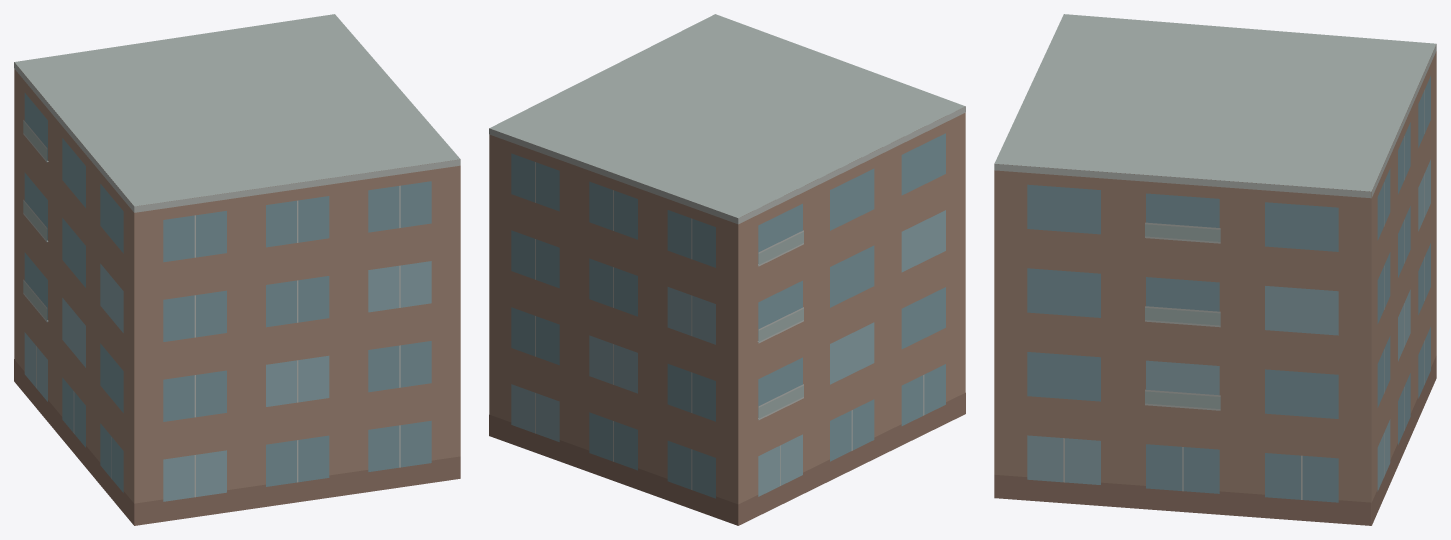
The model's file is survey-upis-32690085.glb.
3 renders of one model, left to right at view 1: azimuth 30°, elevation 25°; view 2: azimuth 150°, elevation 25°; view 3: azimuth 270°, elevation 25°, orthographic. The views are drawn at different scales.
Parts seen in each view (by area): view 1: survey-upis-32690085.tmp; view 2: survey-upis-32690085.tmp; view 3: survey-upis-32690085.tmp.
Part boxes in pixels (left/top/right/bottom): survey-upis-32690085.tmp: left=14, top=14, right=460, bottom=525; survey-upis-32690085.tmp: left=489, top=14, right=965, bottom=525; survey-upis-32690085.tmp: left=994, top=14, right=1436, bottom=525.
Size of the model in its own units: 13.91 by 12.2 by 14.64.
